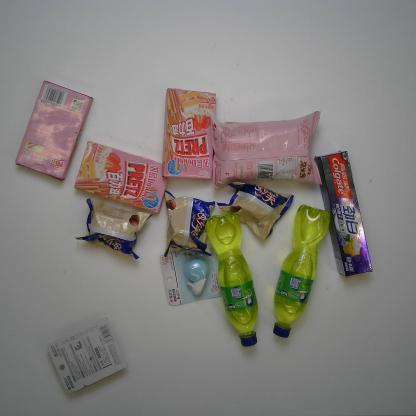Dessert: (14, 81, 94, 179), (74, 142, 172, 213), (79, 193, 154, 259), (162, 87, 214, 180), (222, 182, 292, 236), (161, 185, 214, 256)
Drink: (206, 205, 271, 343), (273, 204, 330, 340)
Personal Hygiene: (315, 144, 374, 282)
Puffed Food: (210, 112, 322, 191)
Stationery: (46, 316, 128, 396), (161, 246, 225, 306)
